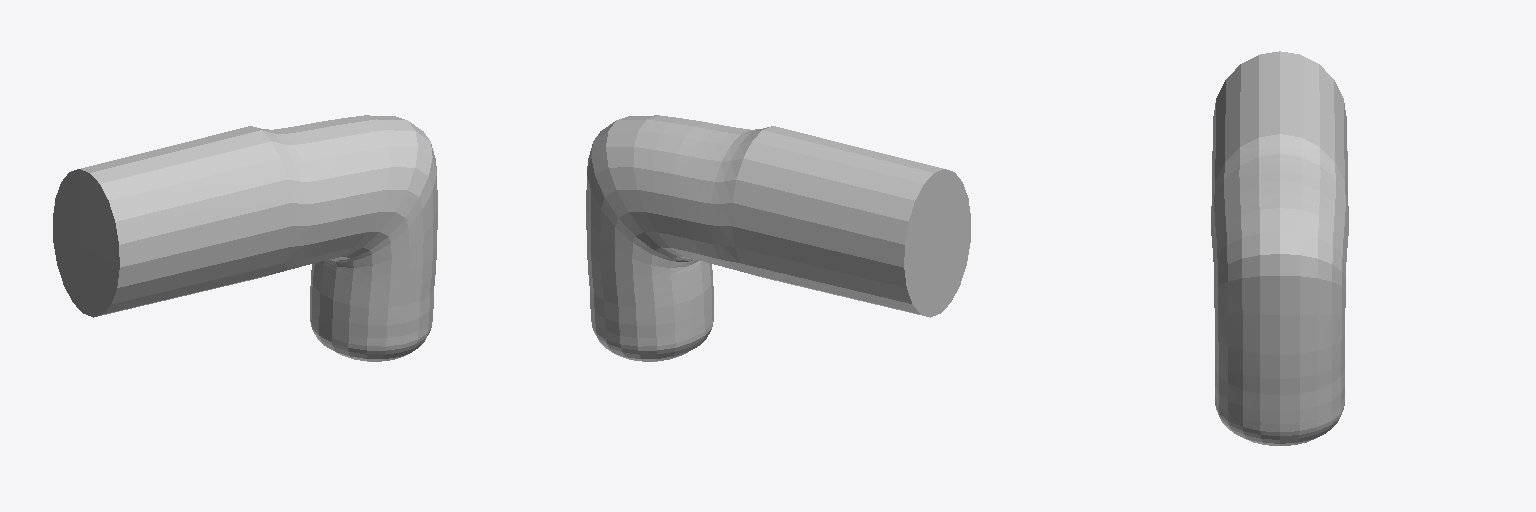
The model's file is Arm_R.obj.
3 renders of one model, left to right at view 1: azimuth 30°, elevation 25°; view 2: azimuth 150°, elevation 25°; view 3: azimuth 270°, elevation 25°, orthographic.
Parts seen in each view (by area): view 1: ARM_R; view 2: ARM_R; view 3: ARM_R.
Part boxes in pixels (x1,y1,x2,y2): ARM_R: (53, 115, 437, 361); ARM_R: (586, 115, 970, 361); ARM_R: (1211, 51, 1348, 445).
Bounding box in the file's own units: 30.21 × 20.77 × 10.45.